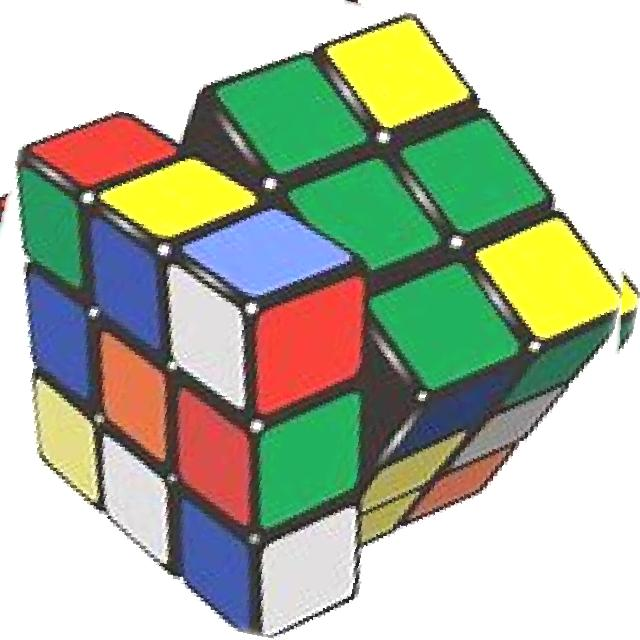cube: (16, 15, 618, 636)
